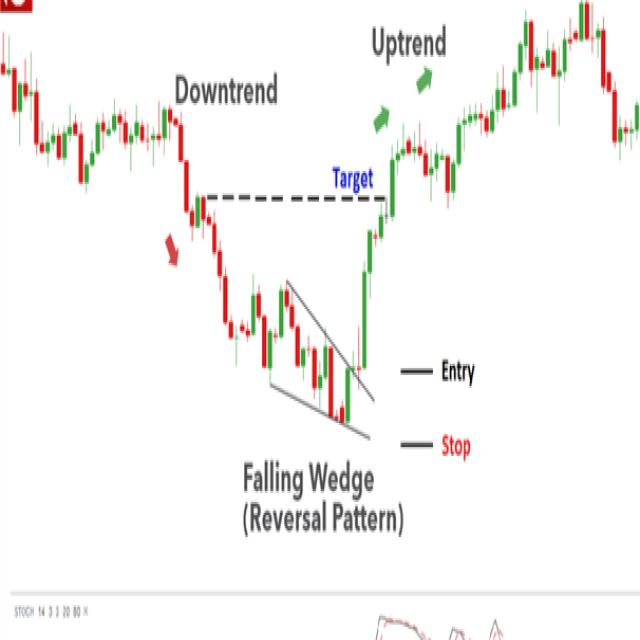Falling-Wedge: (228, 247, 374, 438)
